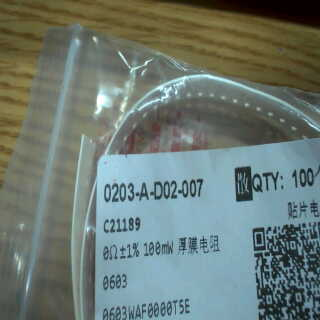0R: (102, 241, 175, 293)
